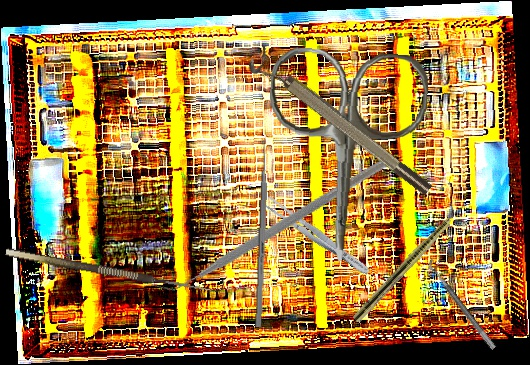Chopper: (148, 83, 398, 359)
Dressing Forceps: (261, 194, 373, 279)
Fixation Ring: (245, 44, 435, 206), (425, 254, 504, 351)
Handpiece: (351, 195, 474, 325)
Hook Surgical: (5, 236, 225, 298)
Iris Scissors: (258, 45, 431, 267)
Pusher: (255, 129, 269, 328)
